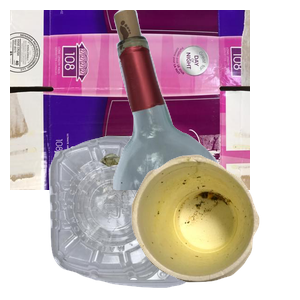cardboard: (10, 10, 250, 190)
glass: (89, 10, 300, 190)
plastic: (46, 130, 227, 300)
trash: (129, 152, 300, 300)
